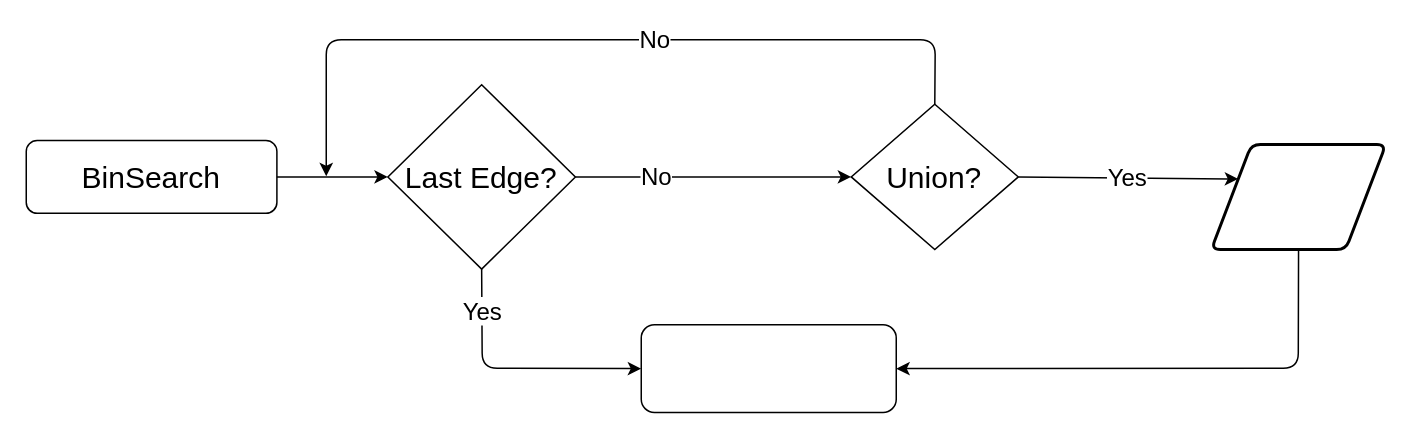
This 1413x440 diagram has some shape labels left out. Each missing label, with the centre of its shape:
"Position" belongs at pixel 1298 196.
"return position" belongs at pixel 768 367.
